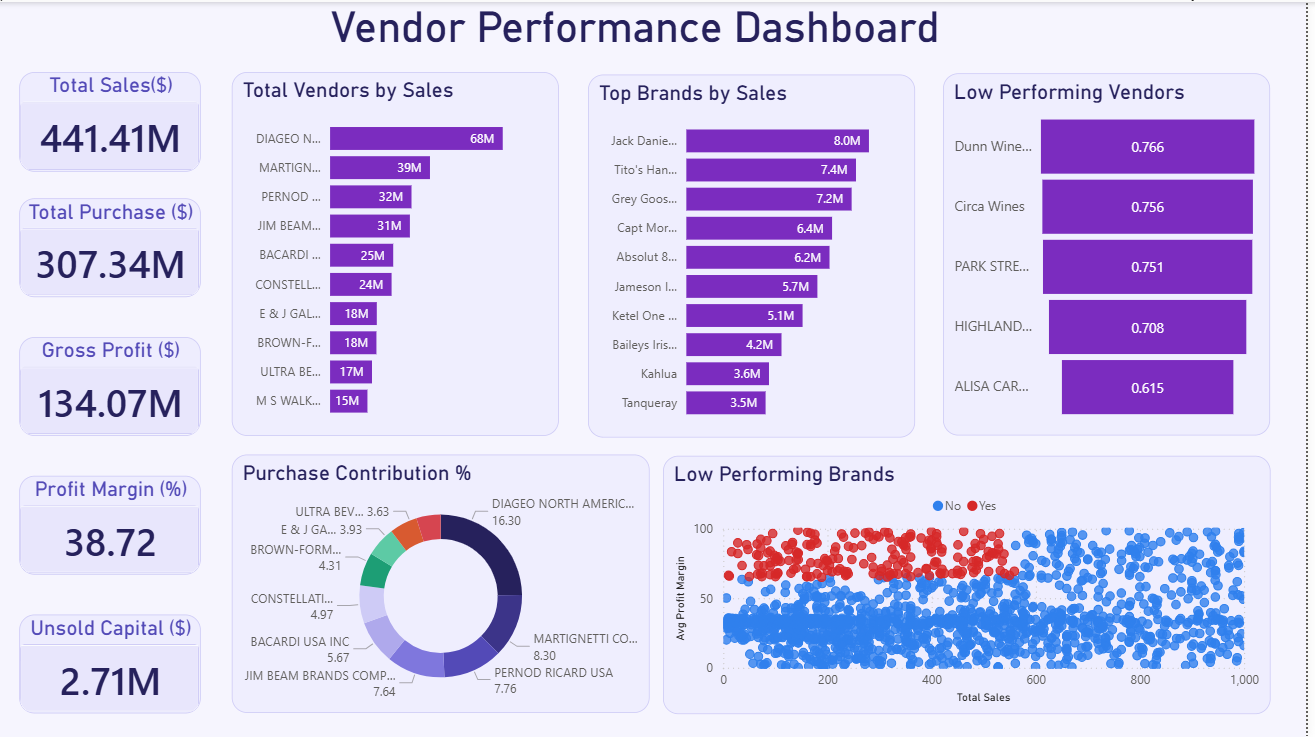

Layout of this report page (visuals, bound fields, positions):
{"tool":"powerbi","page":{"name":"Page 1","canvas":[1280,720],"ordinal":0},"visuals":[{"type":"textbox","title":"Vendor Performance Dashboard","box":[179.8,0,886.6,56.3],"z":0},{"type":"cardVisual","title":"Total  Sales($)","fields":{"Data":["Sum(vendor_sales_summary.TotalSalesDollars)"]},"box":[20.8,68.5,177,97],"z":1000},{"type":"cardVisual","title":"Total Purchase ($)","fields":{"Data":["Sum(vendor_sales_summary.TotalPurchaseDollars)"]},"box":[20.8,201.8,177,97],"z":2000},{"type":"cardVisual","title":"Gross Profit ($)","fields":{"Data":["Sum(vendor_sales_summary.GrossProfit)"]},"box":[20.8,334.2,177,97],"z":3000},{"type":"cardVisual","title":"Profit Margin (%)","fields":{"Data":["Avg(vendor_sales_summary.ProfitMargin)"]},"box":[20.8,466.7,177,97],"z":4000},{"type":"cardVisual","title":"Unsold Capital ($)","fields":{"Data":["Sum(vendor_sales_summary.Unsold Capital)"]},"box":[20.8,587,177.3,108.8],"z":5000},{"type":"donutChart","title":"Purchase Contribution %","fields":{"Y":["PurchaseContribution.PurchaseContribution%"],"Category":["PurchaseContribution.VendorName"],"Series":["PurchaseContribution.VendorName"]},"box":[228.7,442.7,408.4,253.1],"z":6000},{"type":"barChart","title":"Total Vendors by Sales","fields":{"Category":["vendor_sales_summary.VendorName"],"Y":["Sum(vendor_sales_summary.TotalSalesDollars)"]},"box":[228.7,68.5,320,355.8],"z":7000},{"type":"barChart","title":"Top Brands by Sales","fields":{"Category":["vendor_sales_summary.Description"],"Y":["Sum(vendor_sales_summary.TotalSalesDollars)"]},"box":[576.6,70.3,320,355],"z":8000},{"type":"funnel","fields":{"Category":["LowTurnover.VendorName"],"Y":["Avg(LowTurnover.AvgStockTurnOver)"]},"box":[924.5,69.7,320.4,354.6],"z":9000},{"type":"scatterChart","title":"Low Performing Brands","fields":{"Category":["BrandPerformance.Description"],"X":["Sum(BrandPerformance.TotalSales)"],"Y":["Avg(BrandPerformance.AvgProfitMargin)"],"Series":["BrandPerformance.TargetBrand"]},"box":[650.5,443.9,594.3,253],"z":10000}]}

Visuals, with their boxes in screenshot pixels (x1, y1, x2, y2), scaled from the page's 1280x720 canvas onto the 1315x737 screenshot:
"Vendor Performance Dashboard" textbox: box(185, 0, 1096, 58)
"Total  Sales($)" cardVisual: box(21, 70, 203, 169)
"Total Purchase ($)" cardVisual: box(21, 207, 203, 306)
"Gross Profit ($)" cardVisual: box(21, 342, 203, 441)
"Profit Margin (%)" cardVisual: box(21, 478, 203, 577)
"Unsold Capital ($)" cardVisual: box(21, 601, 204, 712)
"Purchase Contribution %" donutChart: box(235, 453, 655, 712)
"Total Vendors by Sales" barChart: box(235, 70, 564, 434)
"Top Brands by Sales" barChart: box(592, 72, 921, 435)
funnel - LowTurnover.VendorName x Avg(LowTurnover.AvgStockTurnOver): box(950, 71, 1279, 434)
"Low Performing Brands" scatterChart: box(668, 454, 1279, 713)
